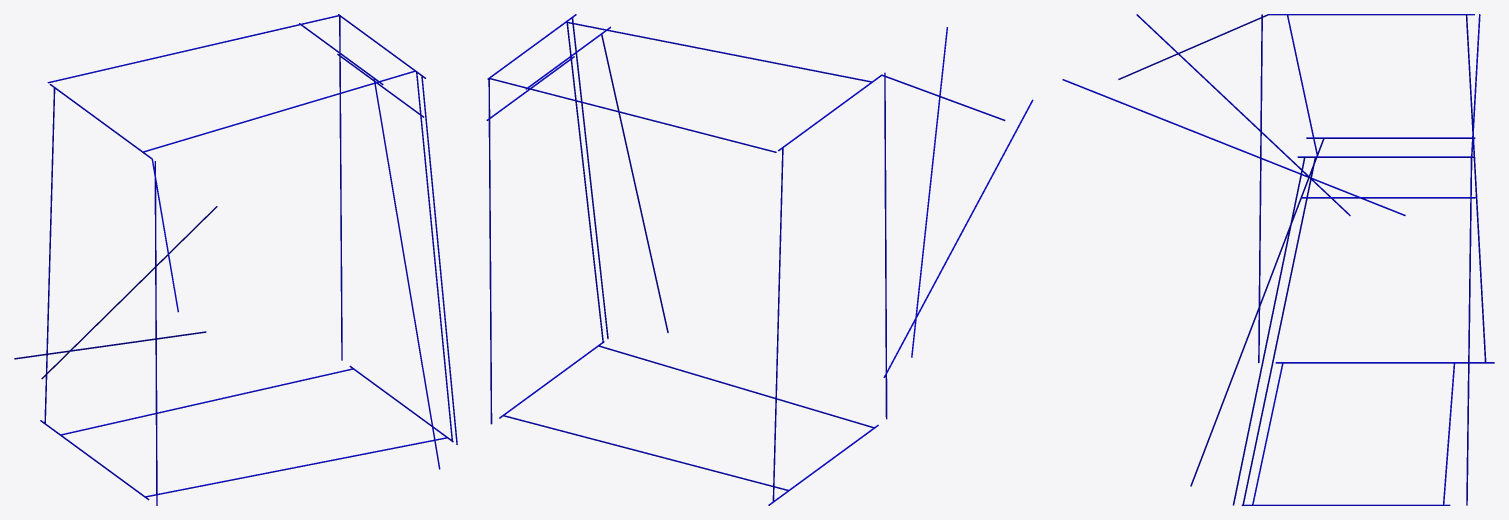
File: corrected_3d_strokes.glb
3 views of the same model, side by side, from view 1: azimuth 30°, elevation 25°; view 2: azimuth 150°, elevation 25°; view 3: azimuth 270°, elevation 25° (orthographic).
Parts seen in each view (by area): view 1: world; view 2: world; view 3: world.
Boxes of the visible parts, <box> form: world: <box>14,14,457,505</box>; world: <box>486,14,1033,505</box>; world: <box>1062,14,1494,505</box>.
Size of the model in its own units: 10.68 by 9.8 by 10.98.
